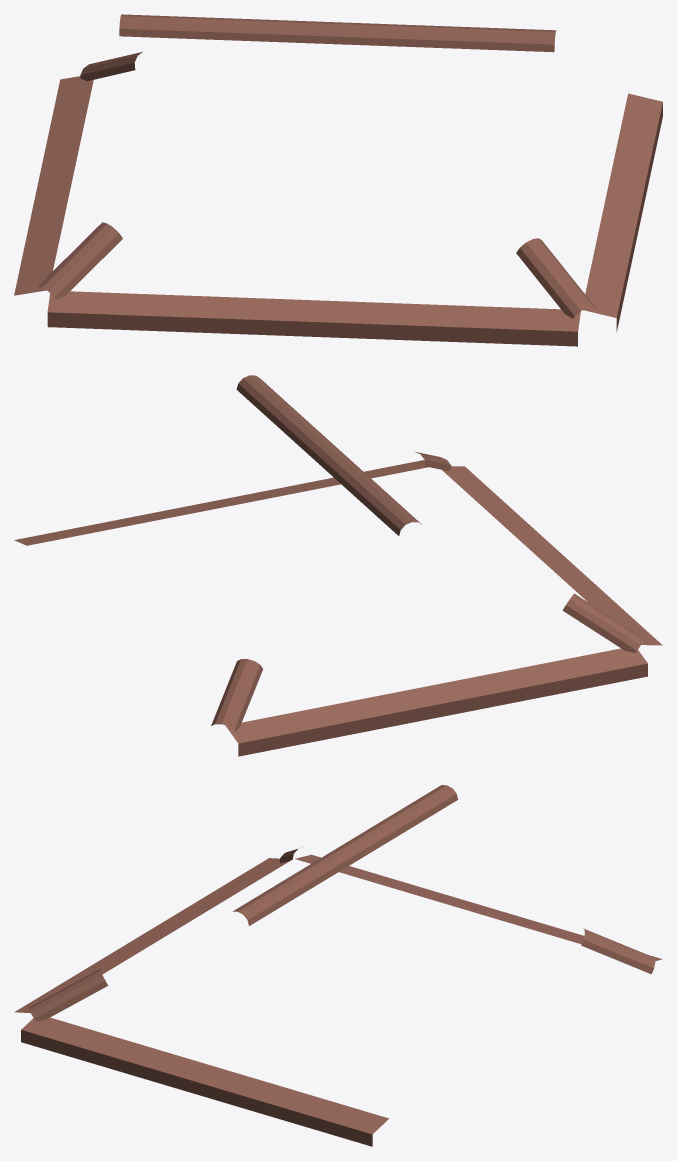
The picture shows the model from 3 angles, top to bottom: view 1: azimuth 30°, elevation 25°; view 2: azimuth 150°, elevation 25°; view 3: azimuth 270°, elevation 25°; orthographic projection. The views are drawn at different scales.
Parts seen in each view (by area): view 1: detail; view 2: detail; view 3: detail.
Part boxes in pixels (x1,y1,x2,y2): detail: [14, 14, 662, 346]; detail: [14, 375, 662, 756]; detail: [14, 785, 662, 1146].
Size of the model in its own units: 7.24 by 2.03 by 7.1.
